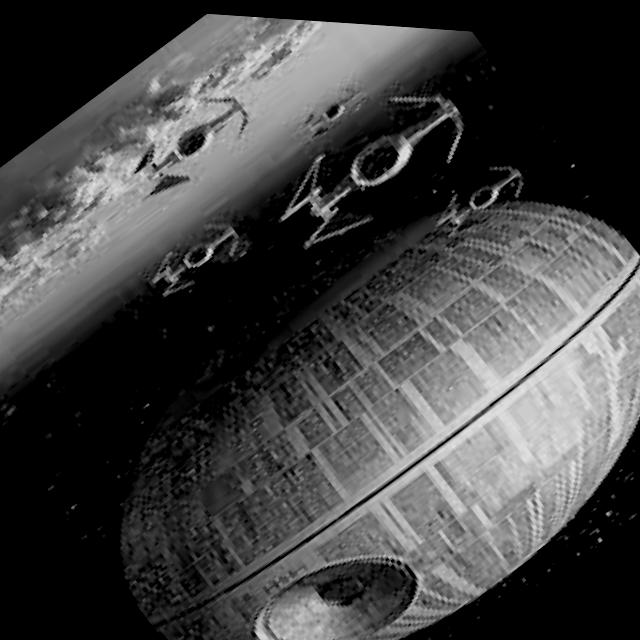death-stars: (118, 185, 640, 640)
